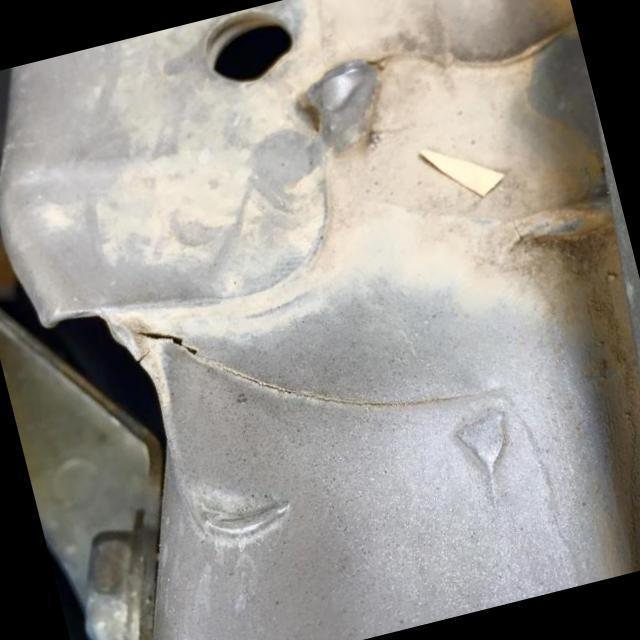defect: (132, 328, 520, 409), (137, 347, 153, 364)
